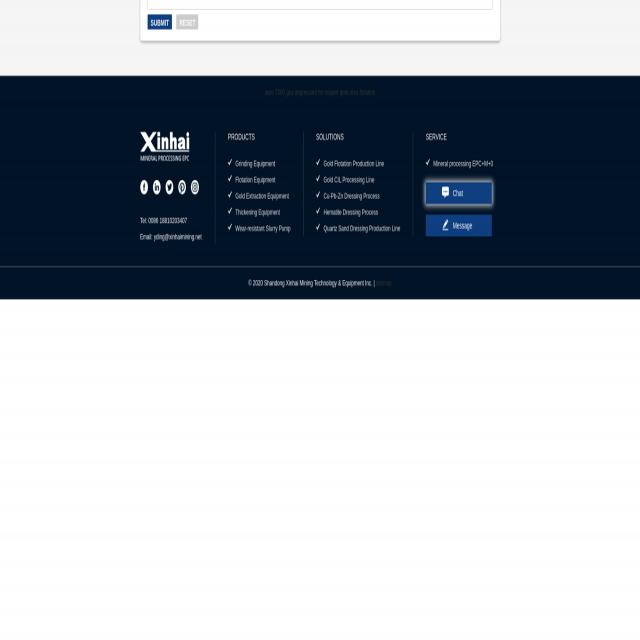button: (140, 132, 190, 161)
field: (148, 14, 172, 30), (176, 14, 199, 30)
